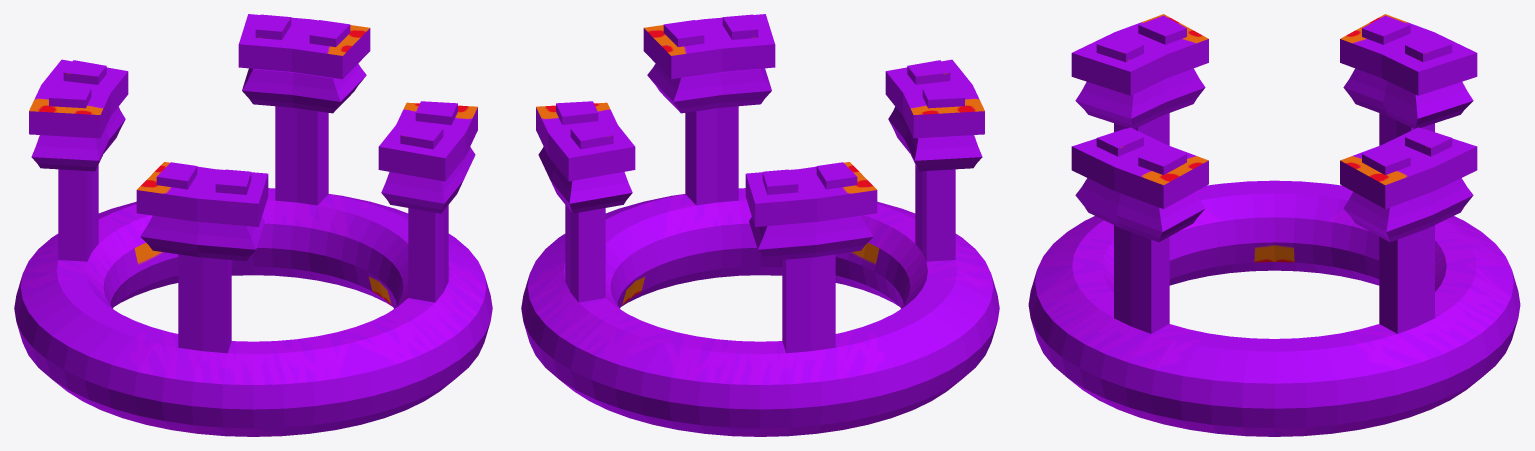
The model's file is king.fbx.
3 renders of one model, left to right at view 1: azimuth 30°, elevation 25°; view 2: azimuth 150°, elevation 25°; view 3: azimuth 270°, elevation 25°, orthographic. The views are drawn at different scales.
Parts seen in each view (by area): view 1: Torus.001; view 2: Torus.001; view 3: Torus.001.
Part boxes in pixels (x1=…): Torus.001: x1=14, y1=14, x2=492, y2=436; Torus.001: x1=521, y1=14, x2=999, y2=436; Torus.001: x1=1028, y1=14, x2=1520, y2=436.
Size of the model in its own units: 862 by 499 by 862.
